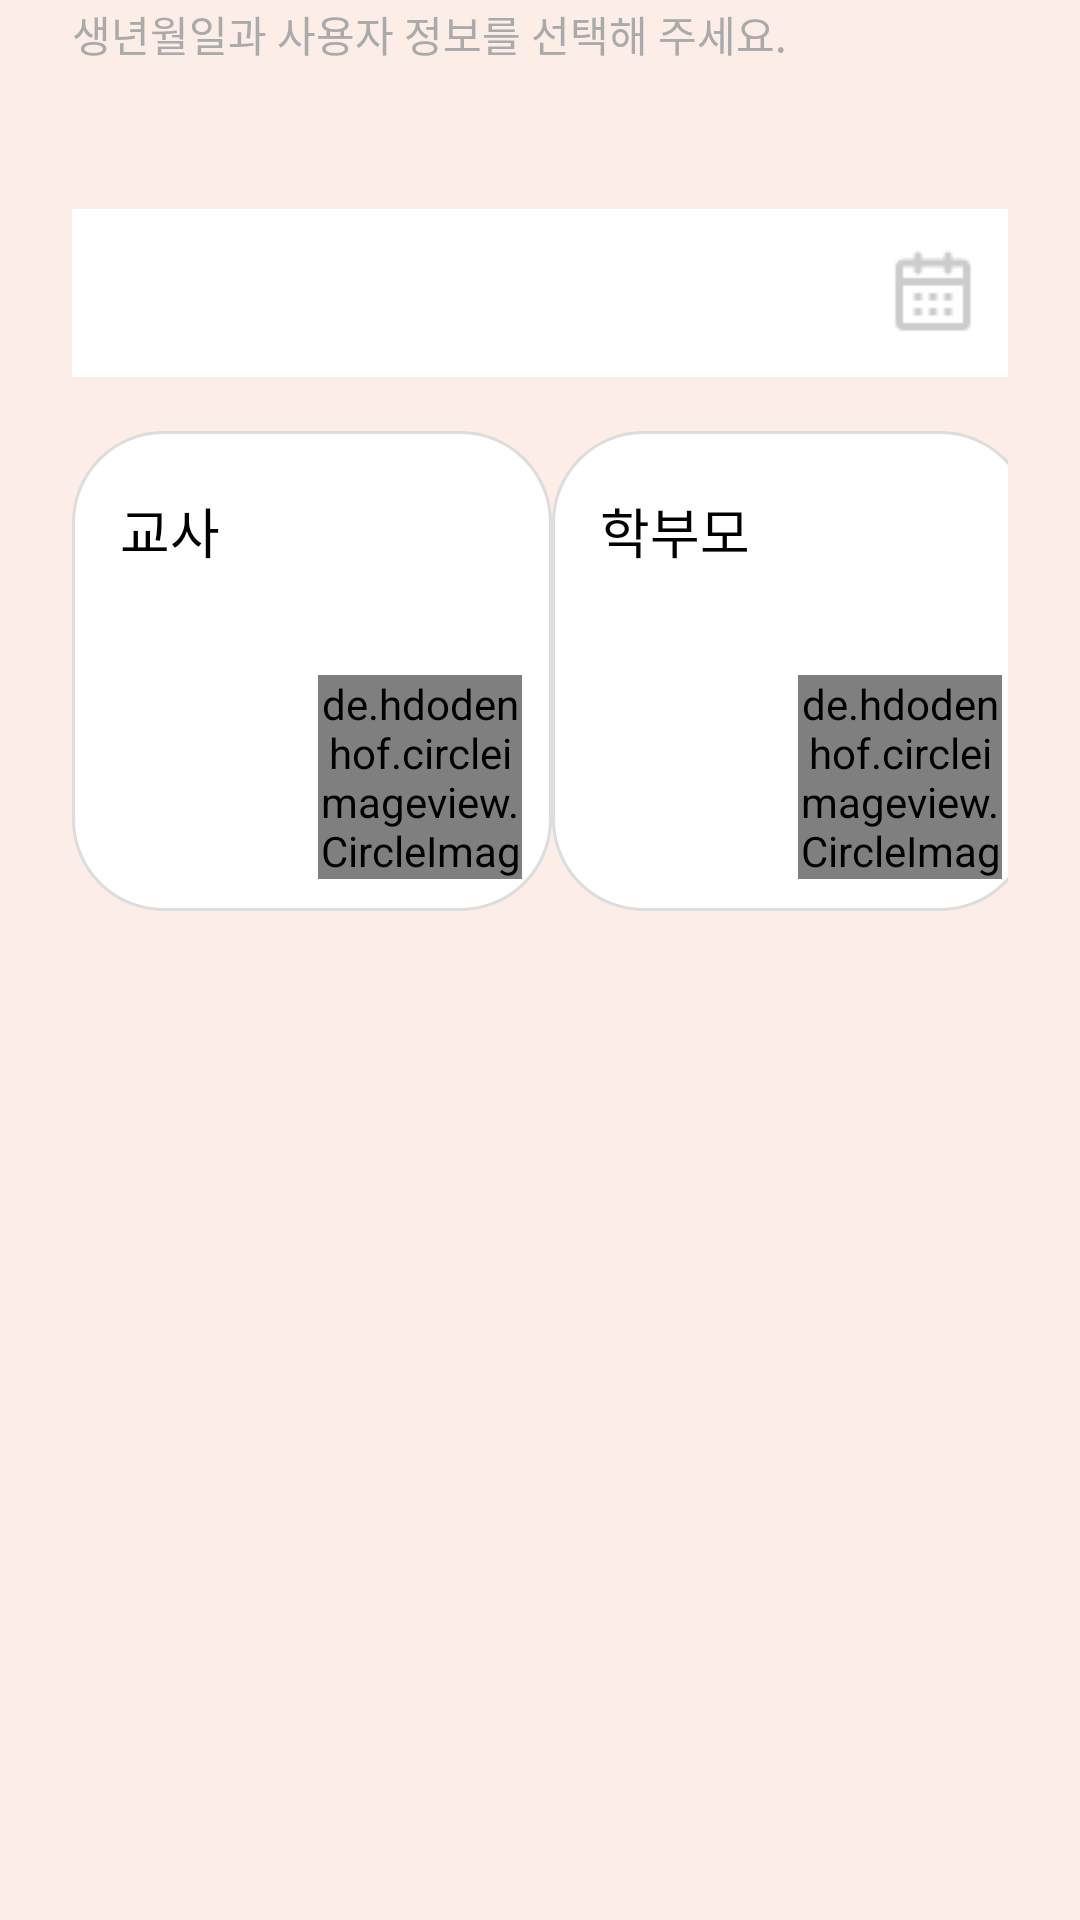

Named icons in this screenshot (1080w x 1920h) and their bounding boxes, (x1, y1, x2, y2):
calender: (895, 252, 971, 331)
